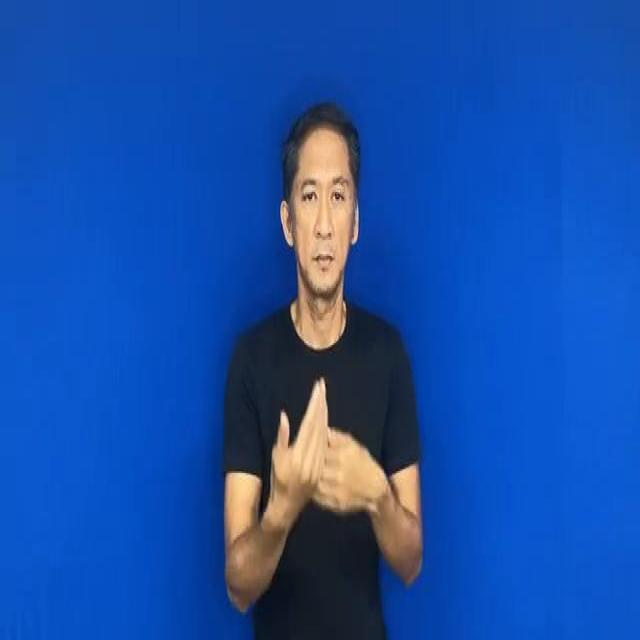bread: (258, 367, 387, 528)
